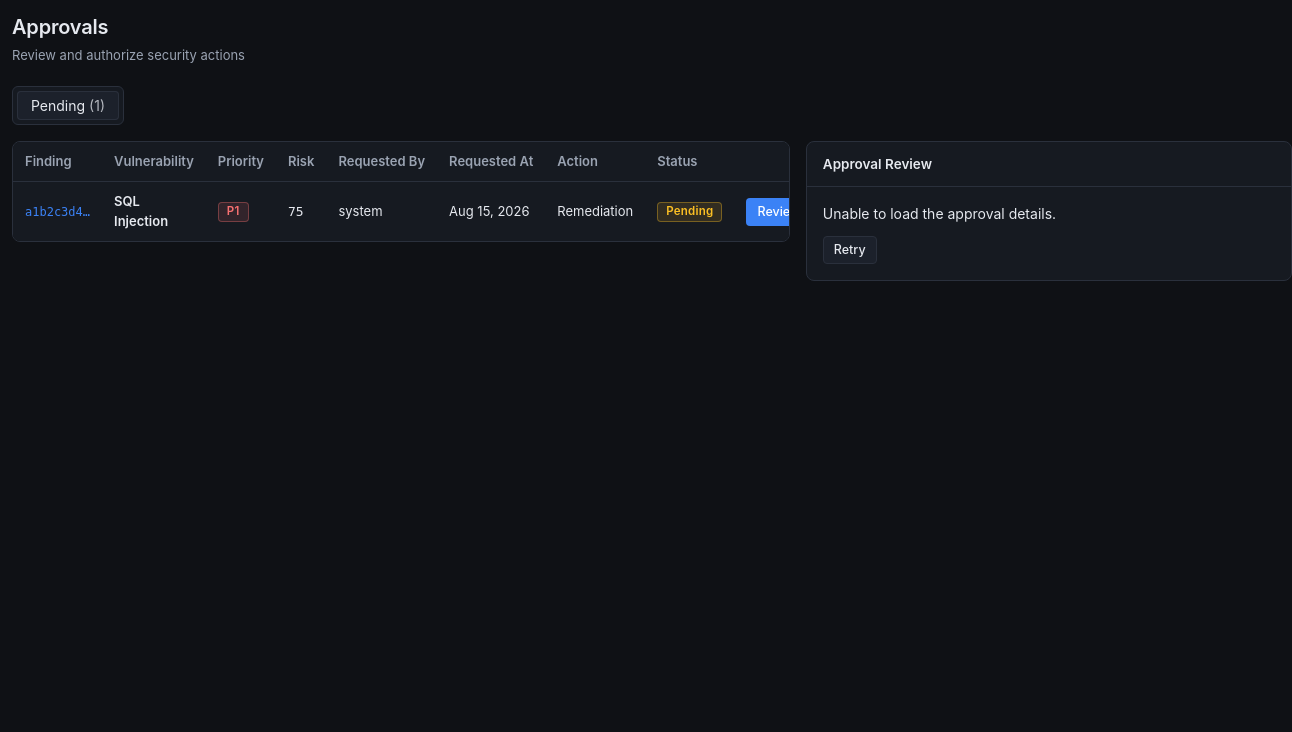
Test: approval review panel › shows a failure state with retry when review details cannot load
Expected: the text "Unable to load the approval details." is shown, [823,203,1056,224]
Step 1. Click the button "Retry" → point(850, 250), box [823,236,877,264]
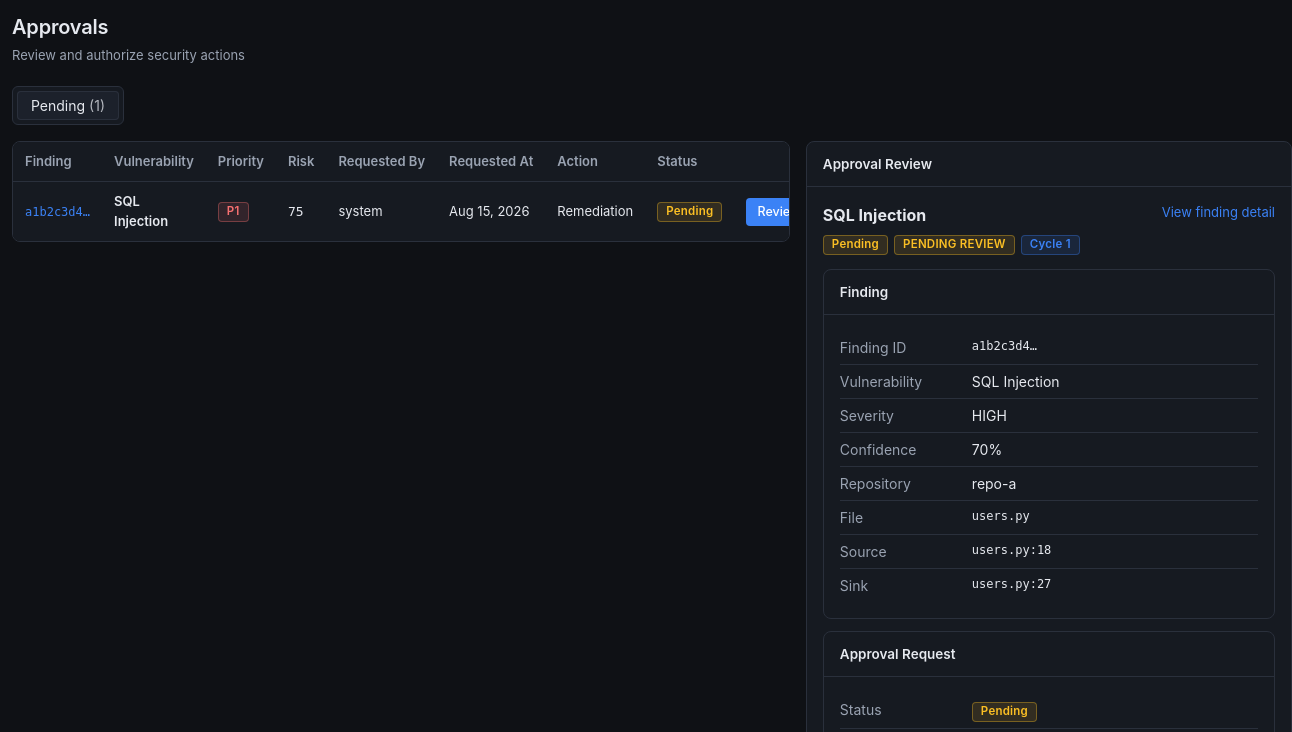
Result: the heading "SQL Injection" is shown at [823,205,926,225]
